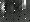person: (1, 1, 7, 18), (10, 3, 16, 15), (20, 2, 26, 13)
